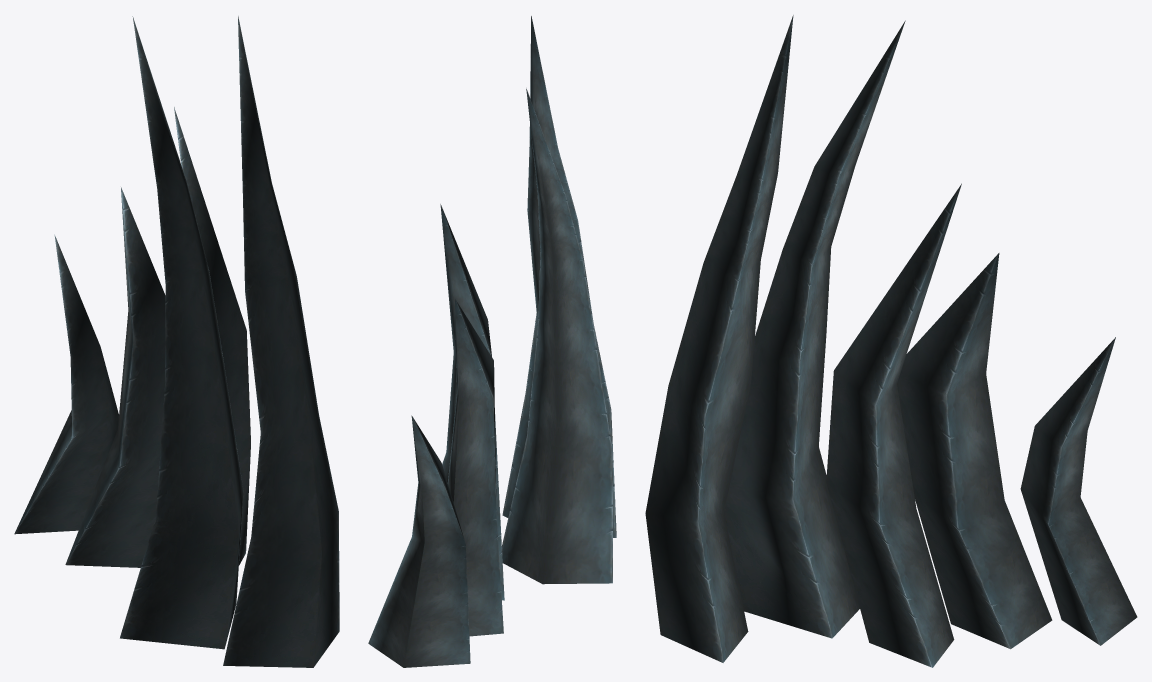
The model's file is spikes_fortress.obj.
3 renders of one model, left to right at view 1: azimuth 30°, elevation 25°; view 2: azimuth 150°, elevation 25°; view 3: azimuth 270°, elevation 25°, orthographic. The views are drawn at different scales.
Parts seen in each view (by area): view 1: world/expansion02/doodads/icecrown/groundspikes/icecrown_grounds; view 2: world/expansion02/doodads/icecrown/groundspikes/icecrown_grounds; view 3: world/expansion02/doodads/icecrown/groundspikes/icecrown_grounds.
Boxes of the visible parts, x1,y1,x2,y2 form: world/expansion02/doodads/icecrown/groundspikes/icecrown_grounds: (14, 16, 339, 667); world/expansion02/doodads/icecrown/groundspikes/icecrown_grounds: (368, 16, 616, 667); world/expansion02/doodads/icecrown/groundspikes/icecrown_grounds: (645, 15, 1137, 667).
Size of the model in its own units: 8.15 by 25.99 by 18.81.
1 material, 1 textured.
